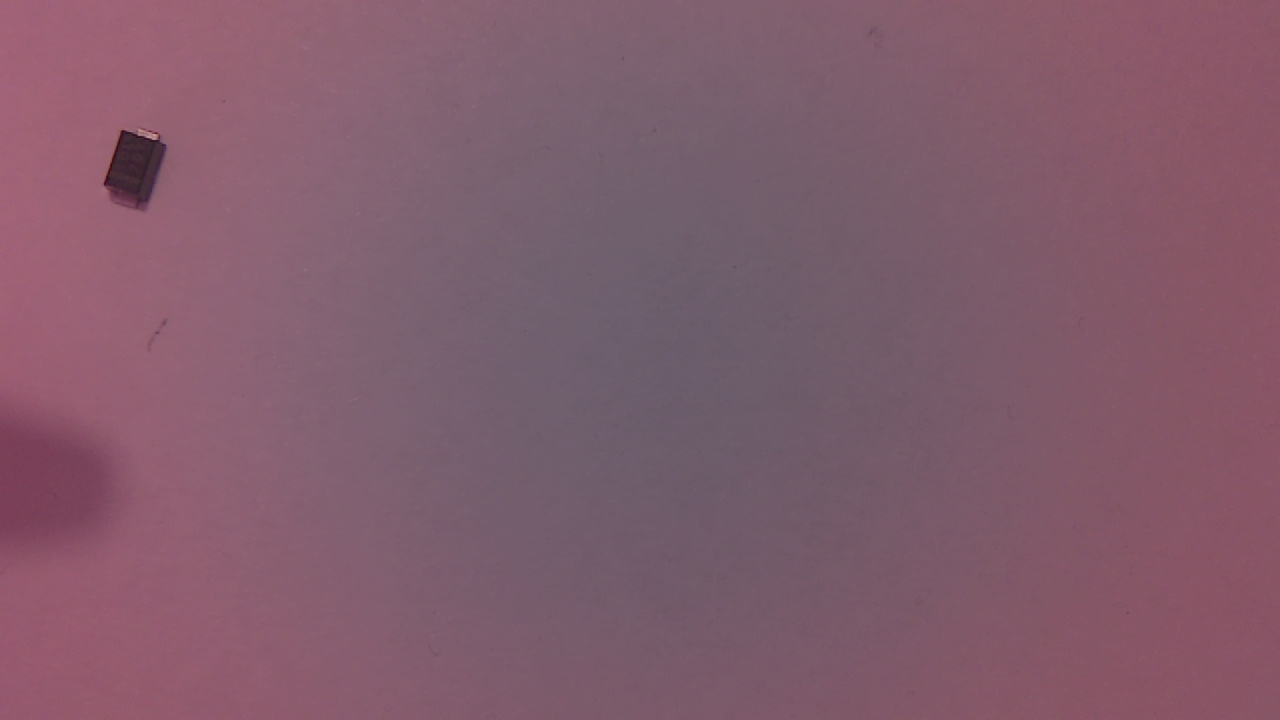Diode: (100, 134, 182, 220)
